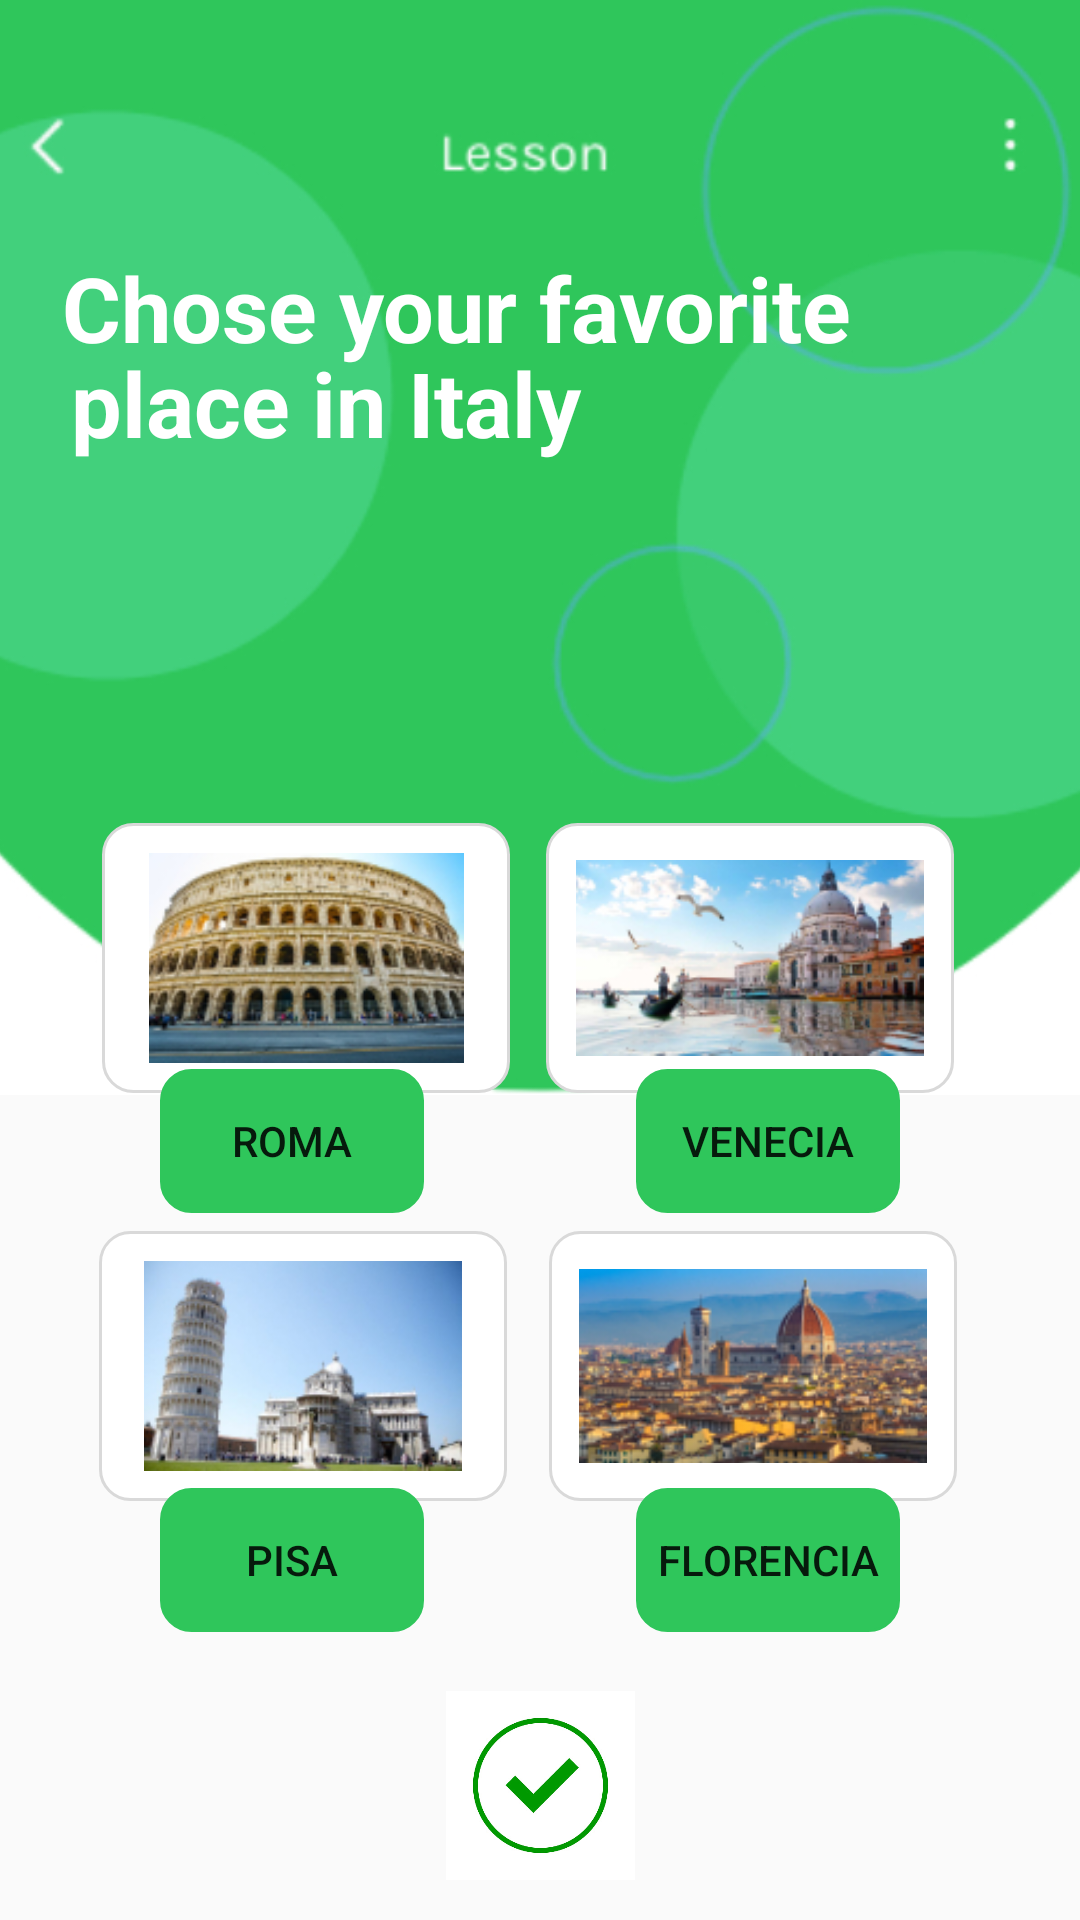

Icons on this 1080 x 1920 Android screen, each with the point to tap as [x,y]:
circulo: [540,1785]
